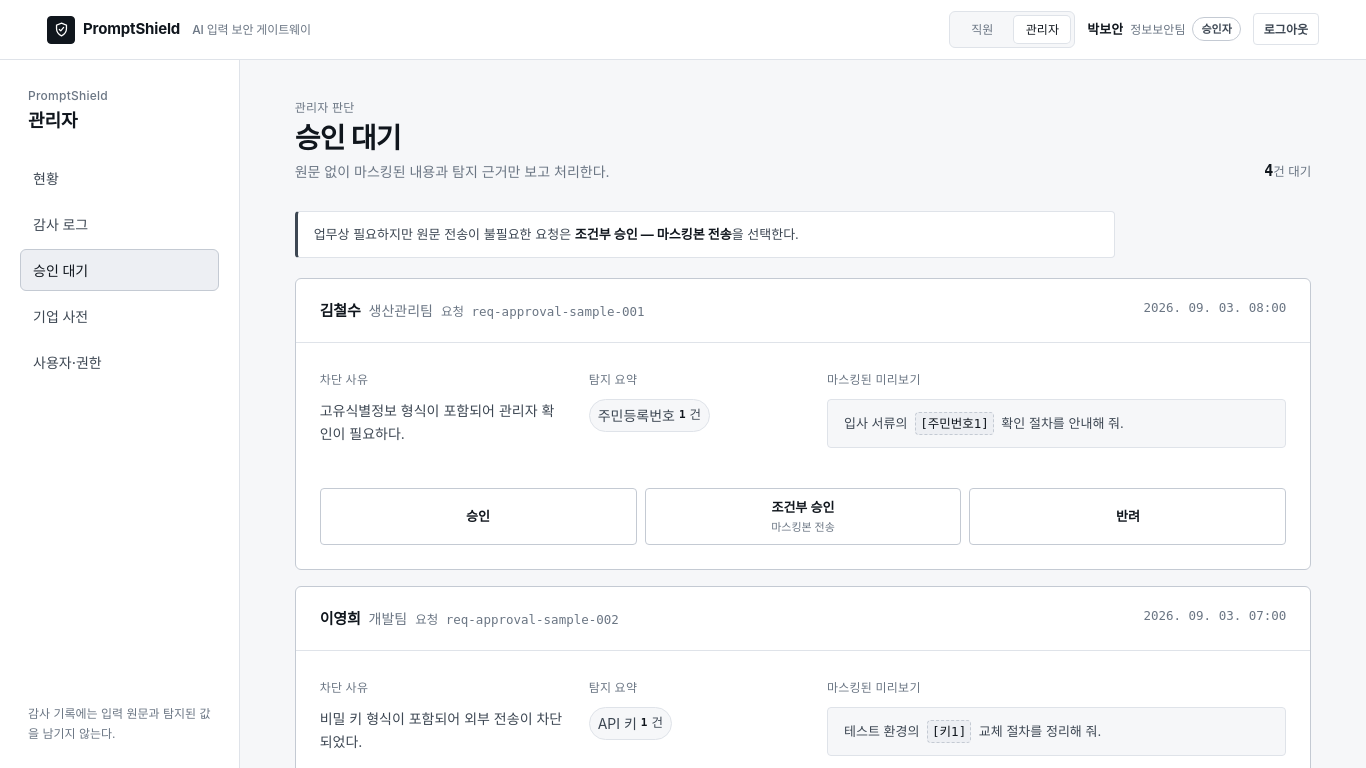
Test case: 역할 기반 인증과 라우트 가드 › 승인자는 /admin/approvals에 들어갈 수 있다
Expected: the heading "승인 대기" is shown, [295,121,401,155]
Click the button "승인". click: coordinates (478, 517)
box: [320,488,636,545]
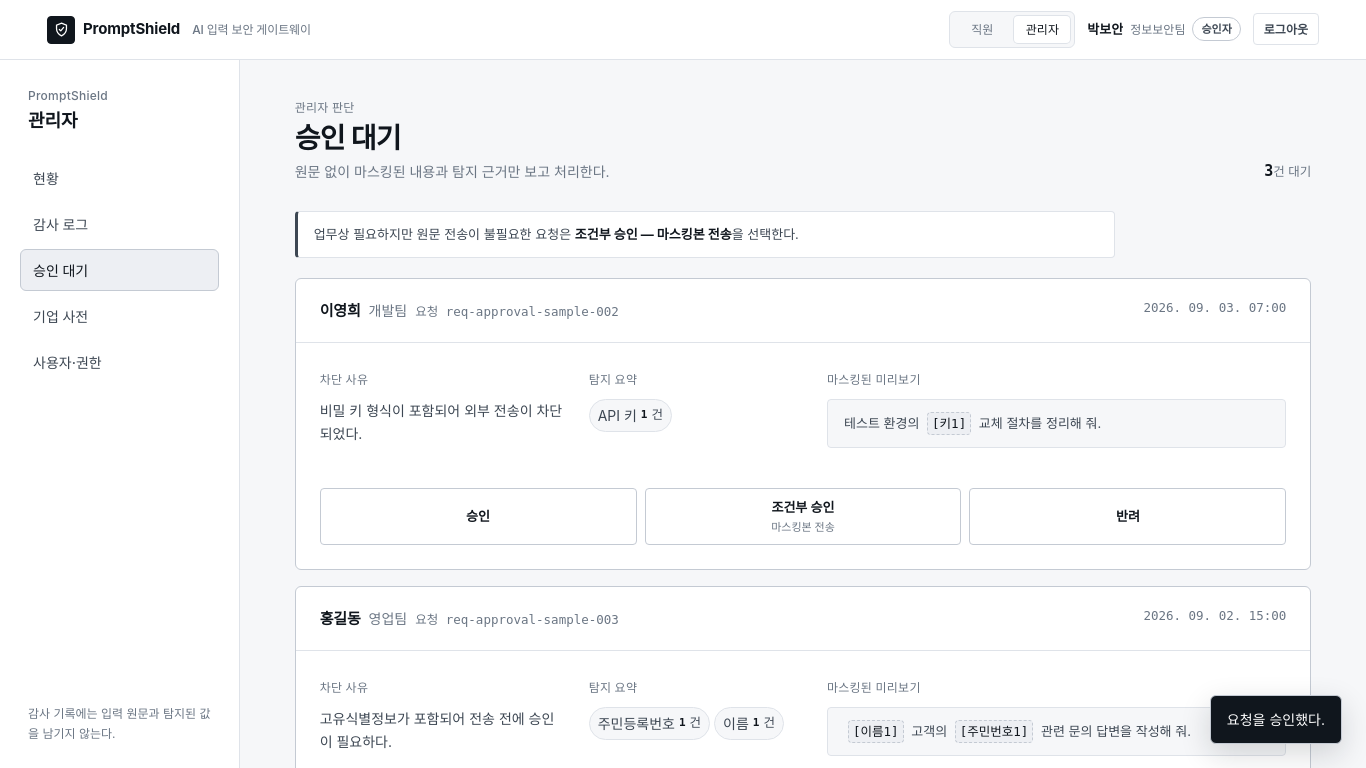
Now the text "요청을 승인했다." is shown, box [1210,695,1342,744]
